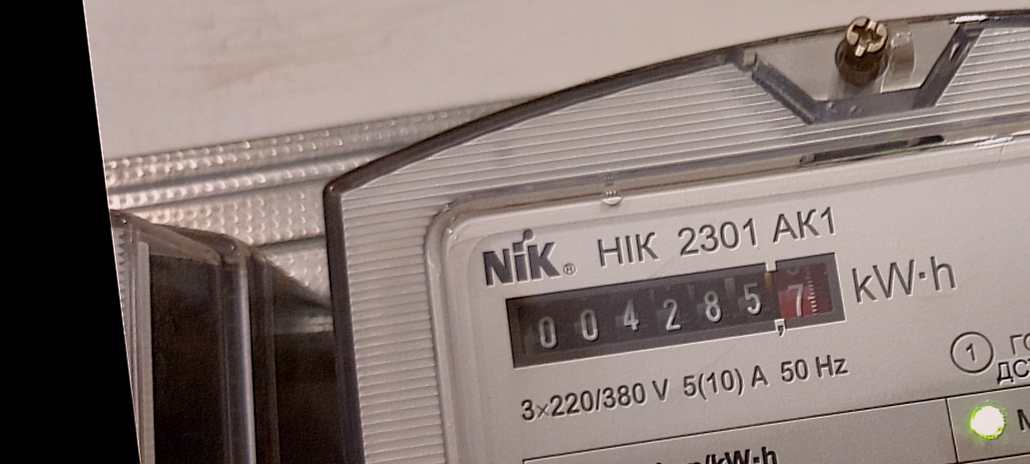0: (576, 304, 602, 343), (535, 312, 560, 350)
2: (659, 294, 683, 332)
4: (620, 296, 641, 333)
5: (739, 278, 765, 316)
7: (785, 280, 809, 318)
8: (699, 286, 725, 325)
screen: (488, 239, 862, 382)
